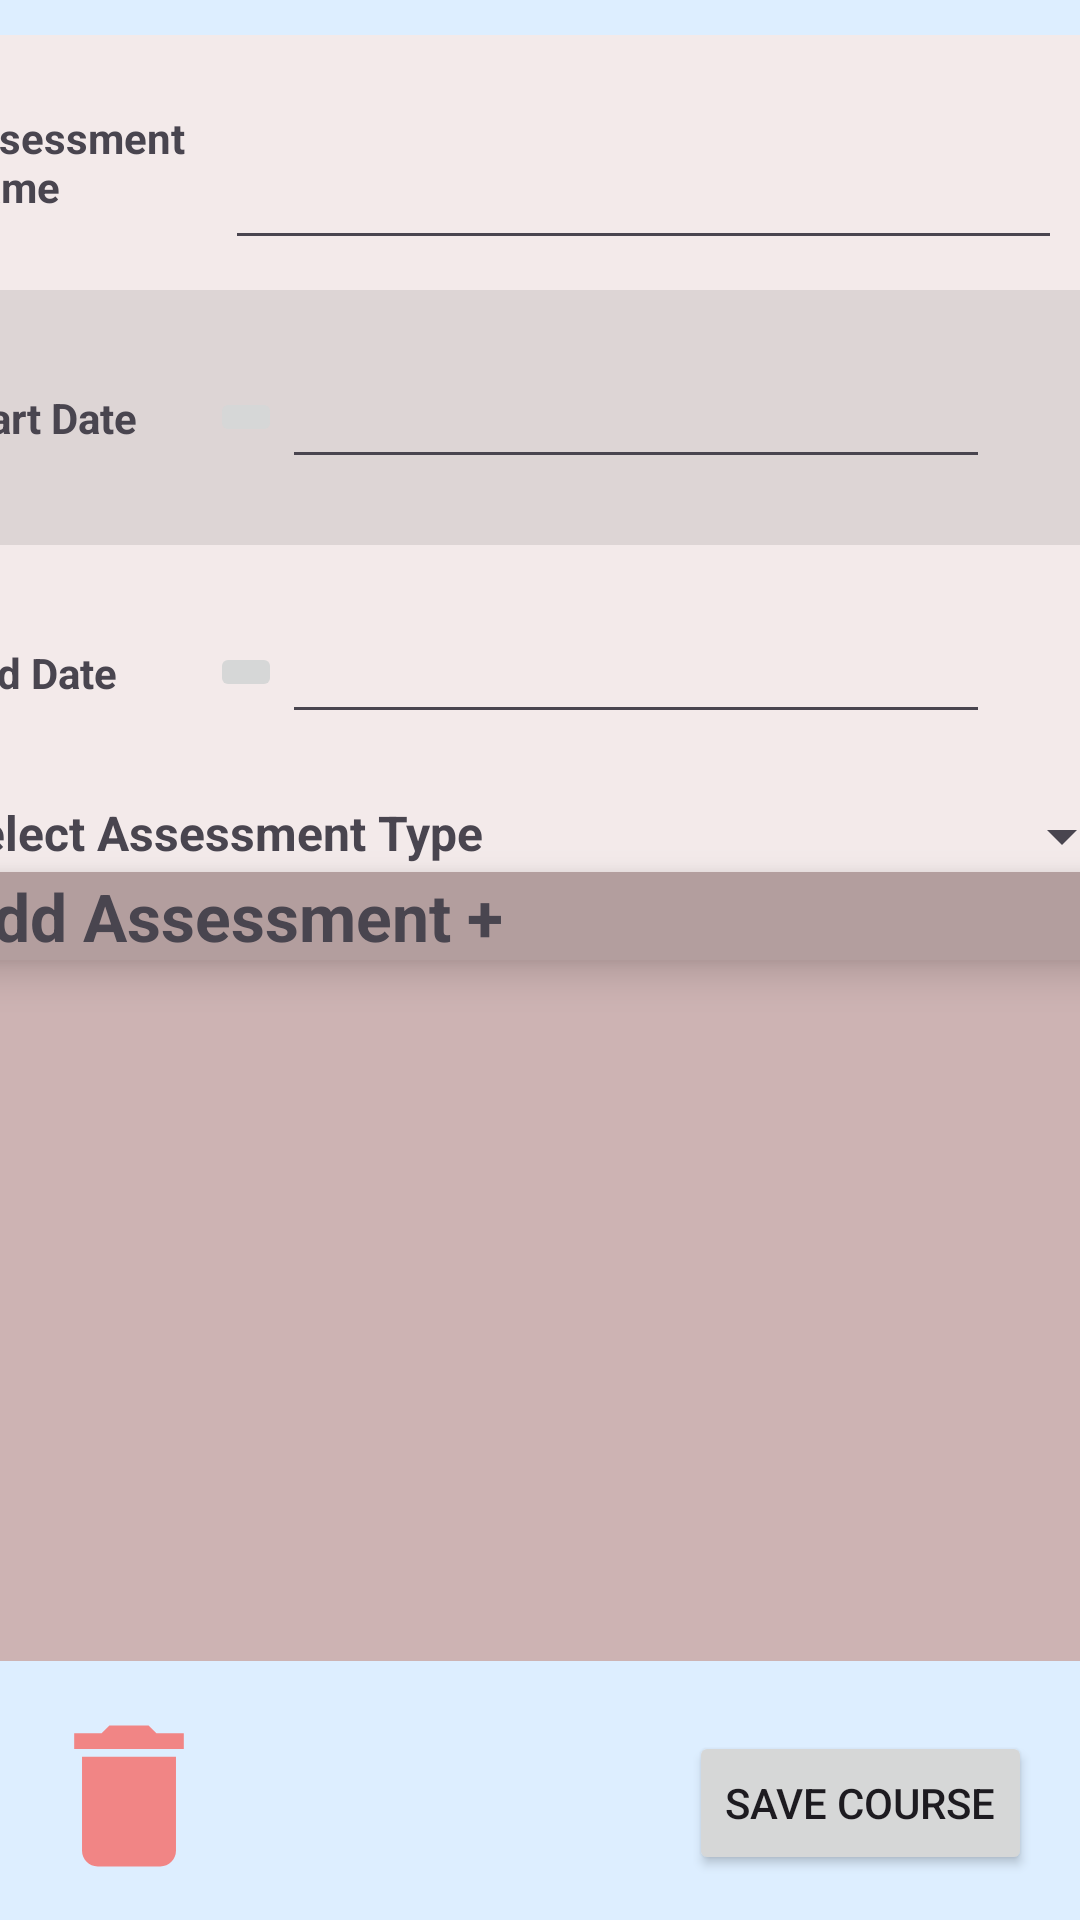

Point at icon controls on the screen. Image size 1080 x 1920, points as (x=x, y=y).
delete: (x=129, y=1796)
